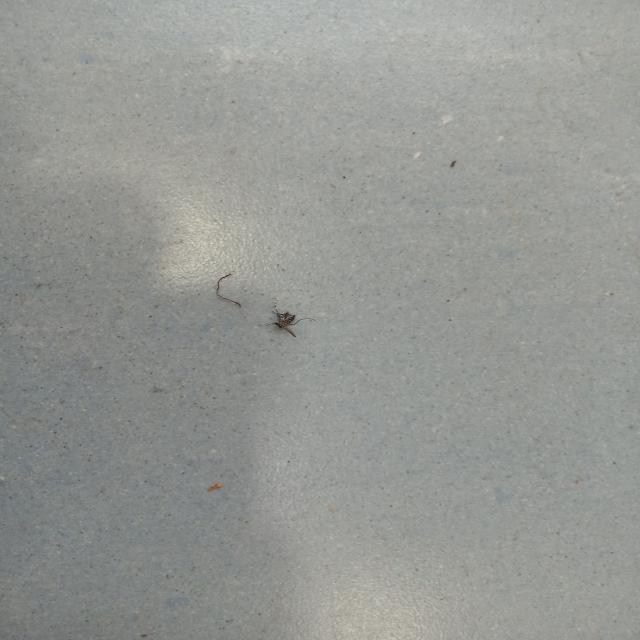albopictus: (211, 272, 326, 344)
